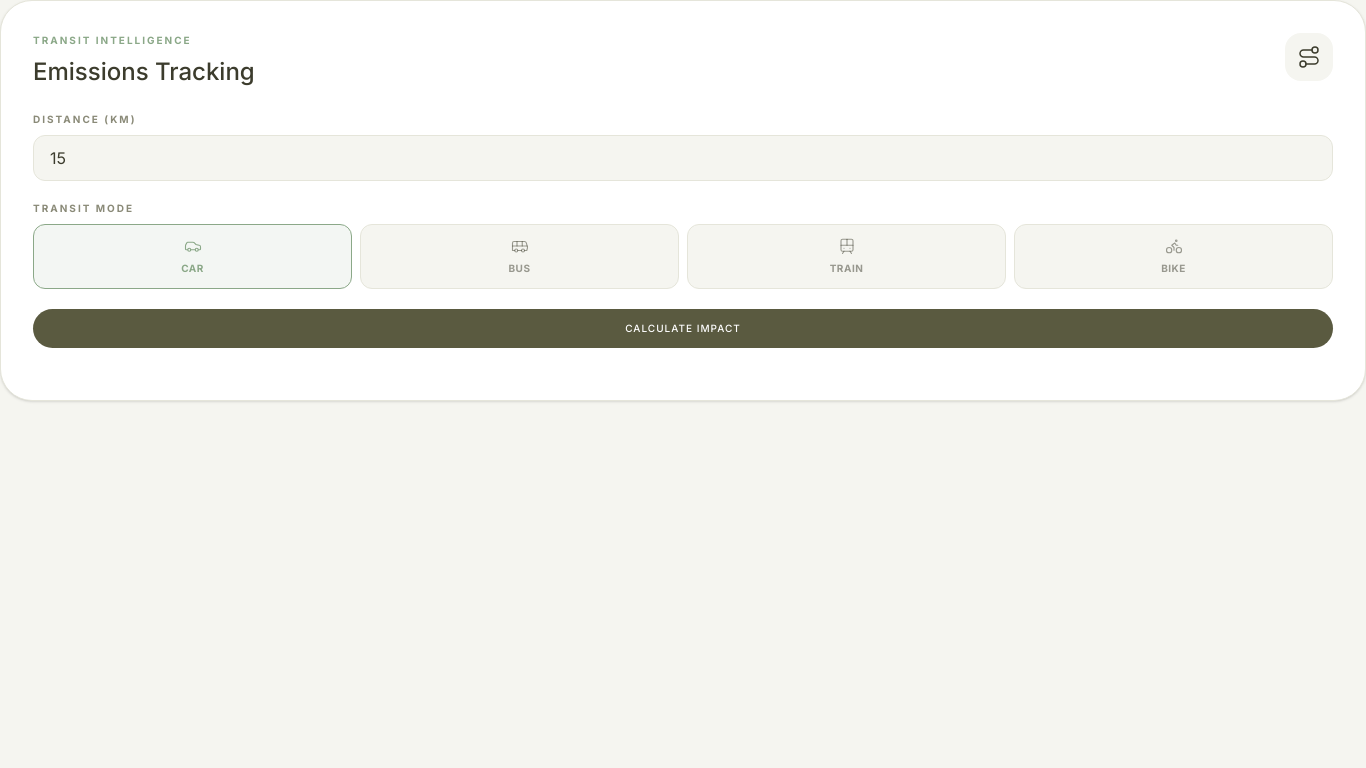
it: TransitFootprint › calculates impact on click
Click the button "Calculate Impact".
click(683, 328)  # box x1=33 y1=309 x2=1333 y2=348
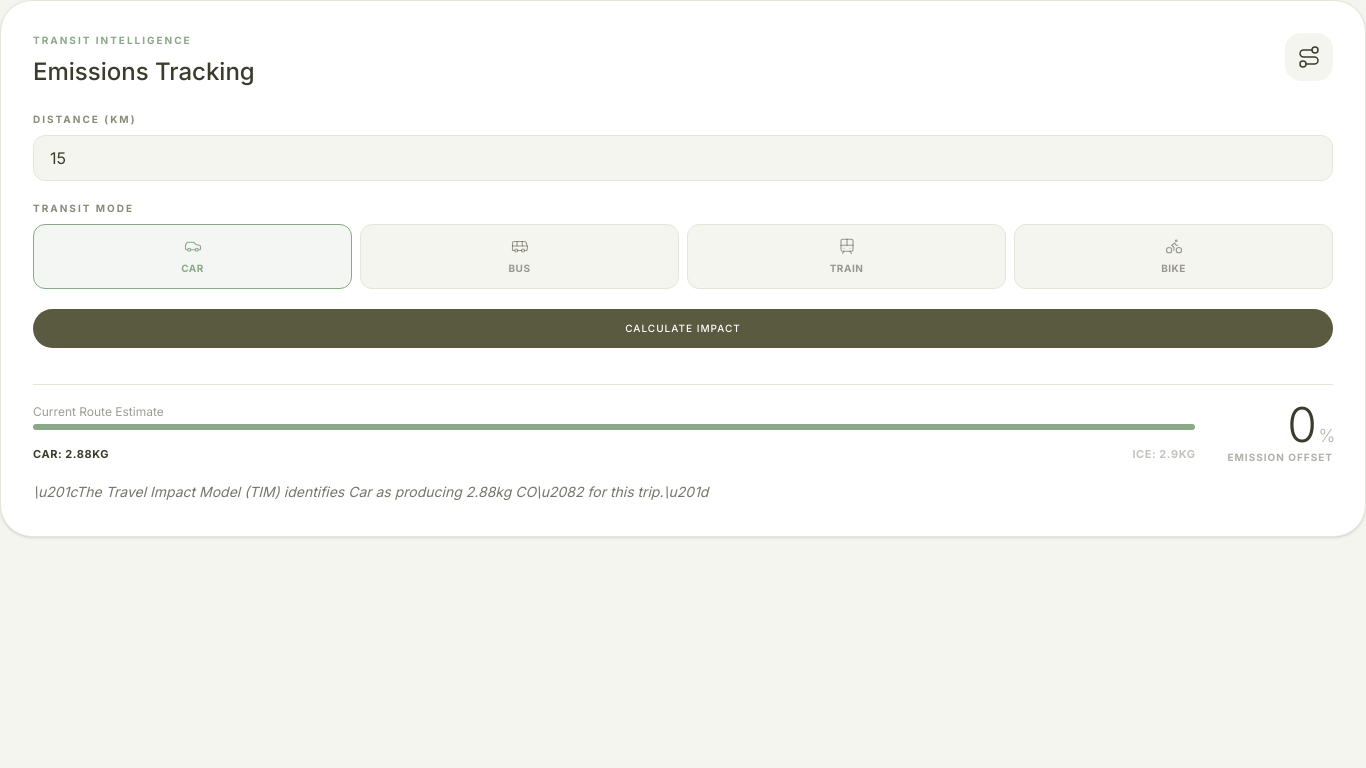
Result: the text "2.88" is shown at x1=65 y1=447 x2=92 y2=461
